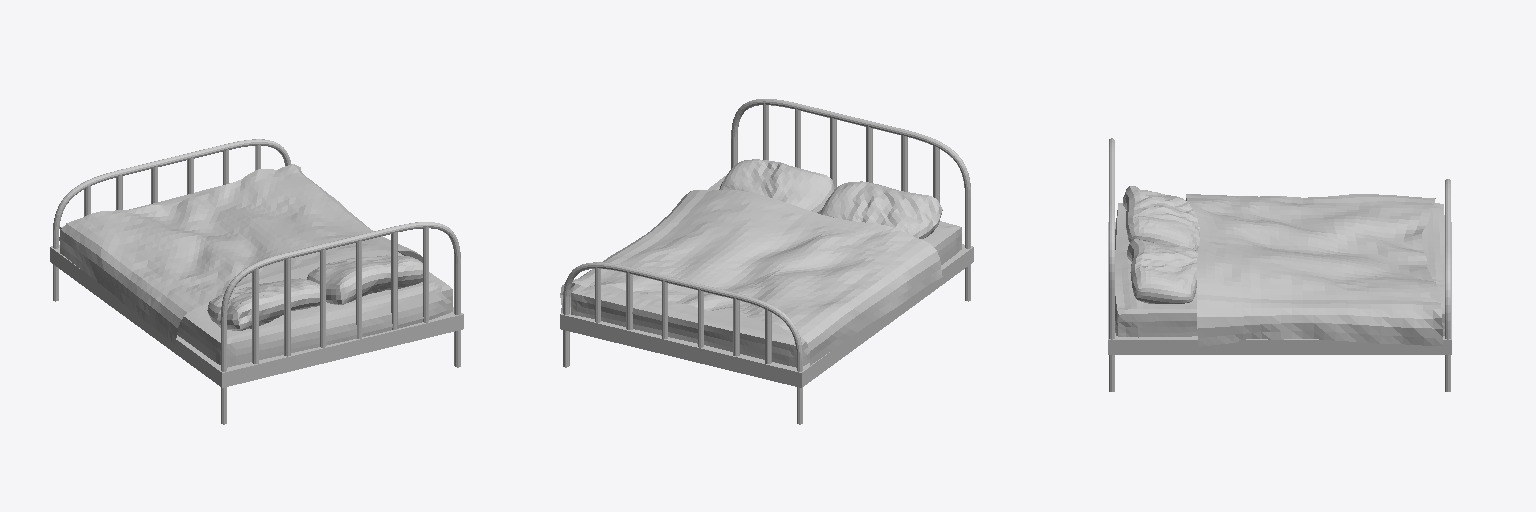
The model's file is bed.obj.
3 renders of one model, left to right at view 1: azimuth 30°, elevation 25°; view 2: azimuth 150°, elevation 25°; view 3: azimuth 270°, elevation 25°, orthographic.
Parts seen in each view (by area): view 1: BezierCurve; view 2: BezierCurve; view 3: BezierCurve.
Boxes of the visible parts, box(x1,y1,x2,y2) form: BezierCurve: box(50, 139, 463, 424); BezierCurve: box(560, 99, 973, 424); BezierCurve: box(1108, 138, 1451, 391).
Size of the model in its own units: 1.78 by 1.03 by 2.08.